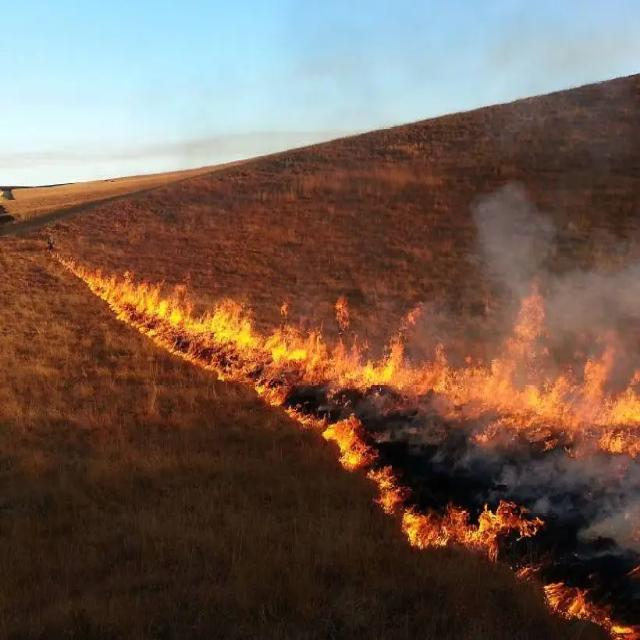Fire: (280, 304, 632, 464), (88, 261, 268, 378), (389, 487, 548, 562), (545, 576, 640, 640)
Smoke: (456, 176, 638, 346)
